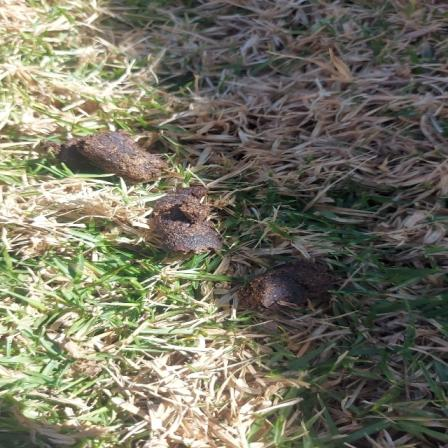dog-poop: (69, 127, 229, 264), (258, 262, 328, 308)
